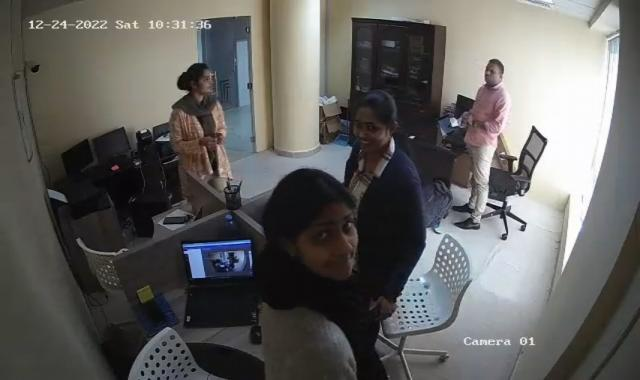no_hairnet: (264, 167, 360, 280), (350, 89, 399, 150), (174, 60, 214, 95), (478, 57, 509, 89)
